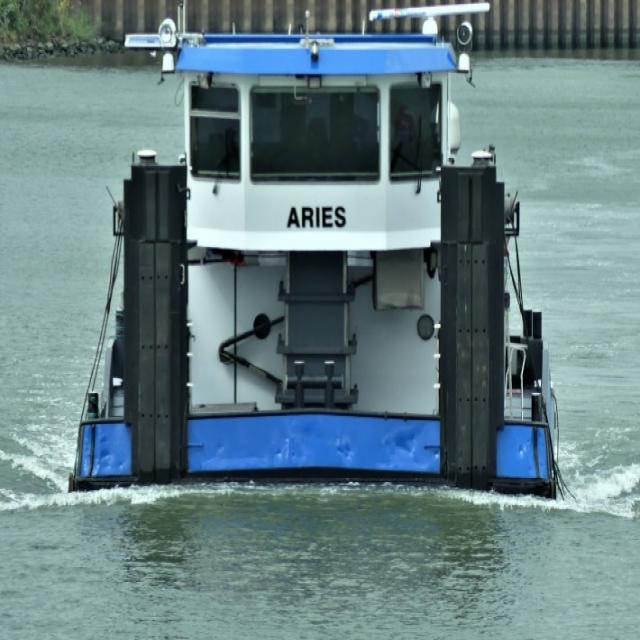tugboat: (66, 1, 571, 524)
